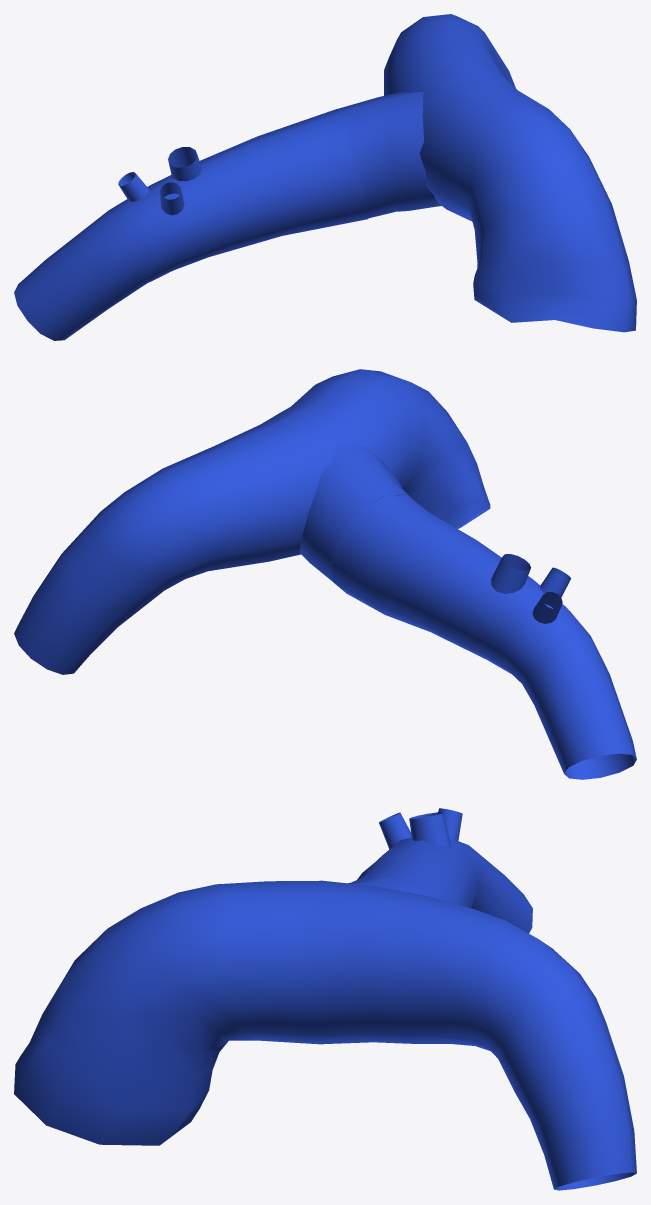
The model's file is pulmonaryartery.gltf.
The picture shows the model from 3 angles, top to bottom: view 1: azimuth 30°, elevation 25°; view 2: azimuth 150°, elevation 25°; view 3: azimuth 270°, elevation 25°; orthographic projection. The views are drawn at different scales.
Visible parts, largest first — view 1: a1.002; view 2: a1.002; view 3: a1.002.
Boxes of the visible parts, x1,y1,x2,y2 form: a1.002: (14, 14, 636, 340); a1.002: (14, 369, 636, 779); a1.002: (14, 808, 636, 1190).
Bounding box in the file's own units: 3.76 × 1.48 × 3.16.
